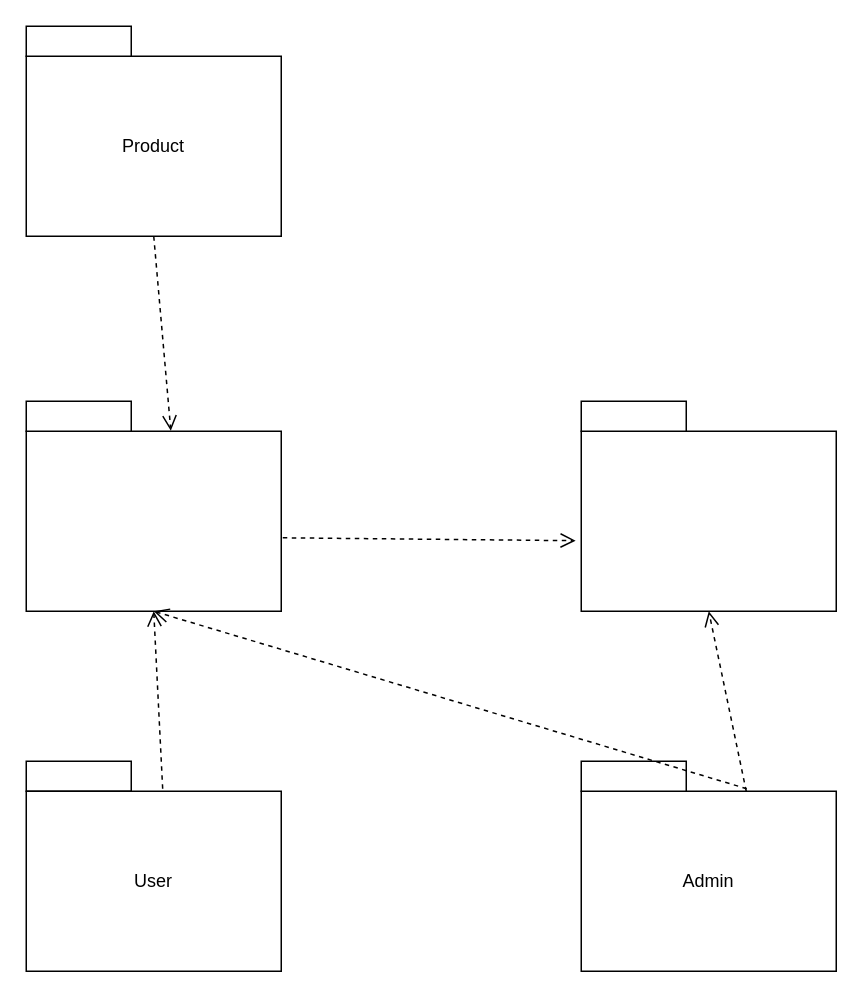
The diagram is 863 pixels wide and 998 high, and some of its shapes have lost their labels. Each missing label, with the centre of its shape:
"DataBaseControl" goes at point 708,520.
"Ordering" goes at point 153,520.
